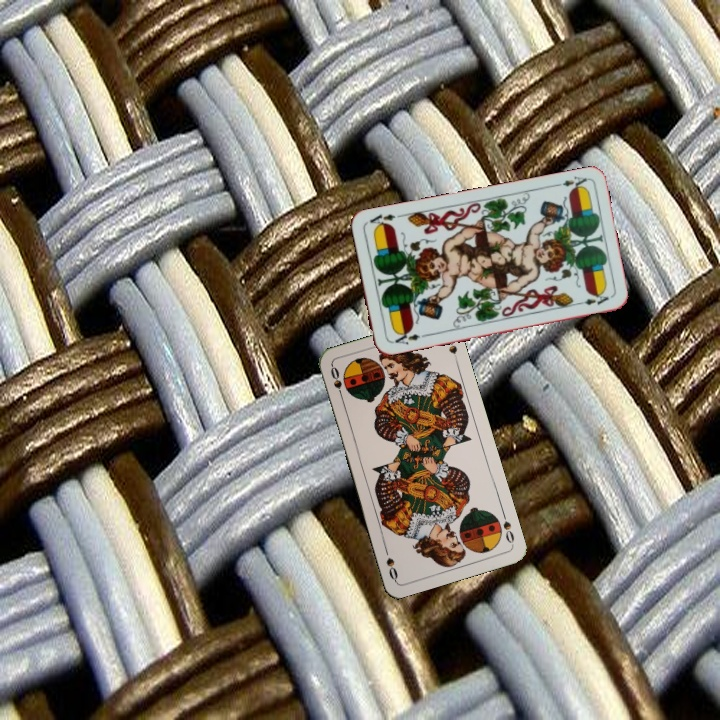EA: (550, 172, 590, 193), (388, 327, 428, 347)
SO: (327, 362, 346, 402), (498, 507, 517, 546)
